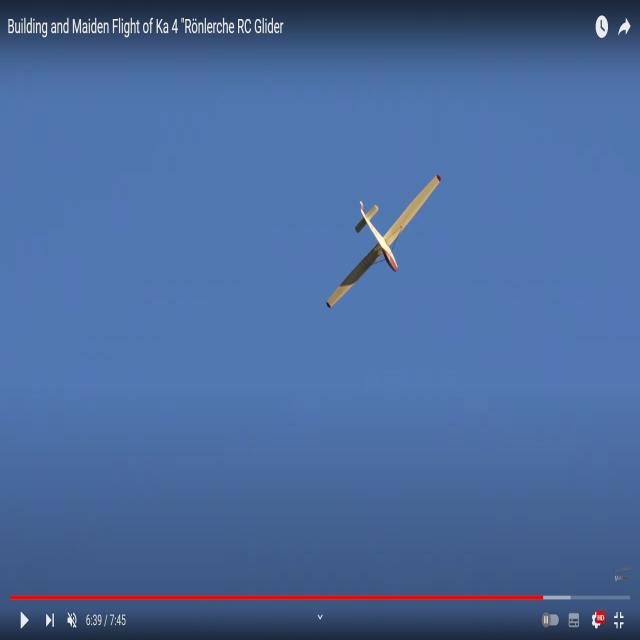iha: (358, 176, 411, 306)
